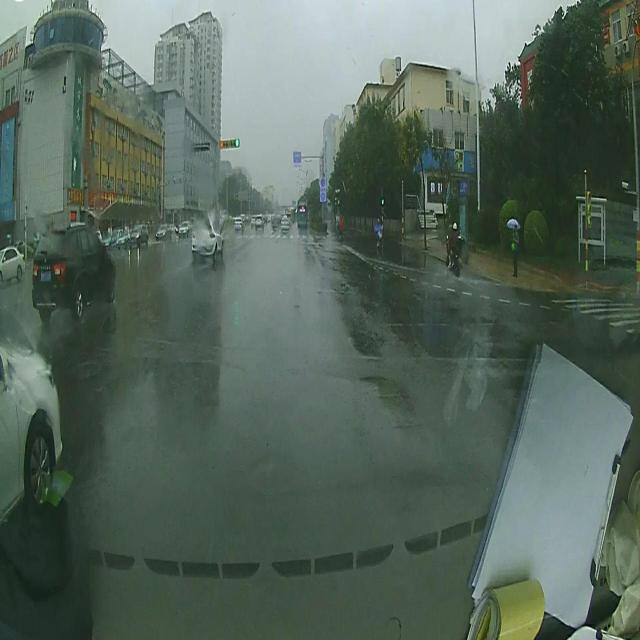car: (1, 334, 62, 518), (32, 221, 116, 314), (191, 224, 224, 262), (0, 244, 26, 280), (280, 213, 288, 232), (234, 218, 244, 232), (255, 212, 262, 231)
